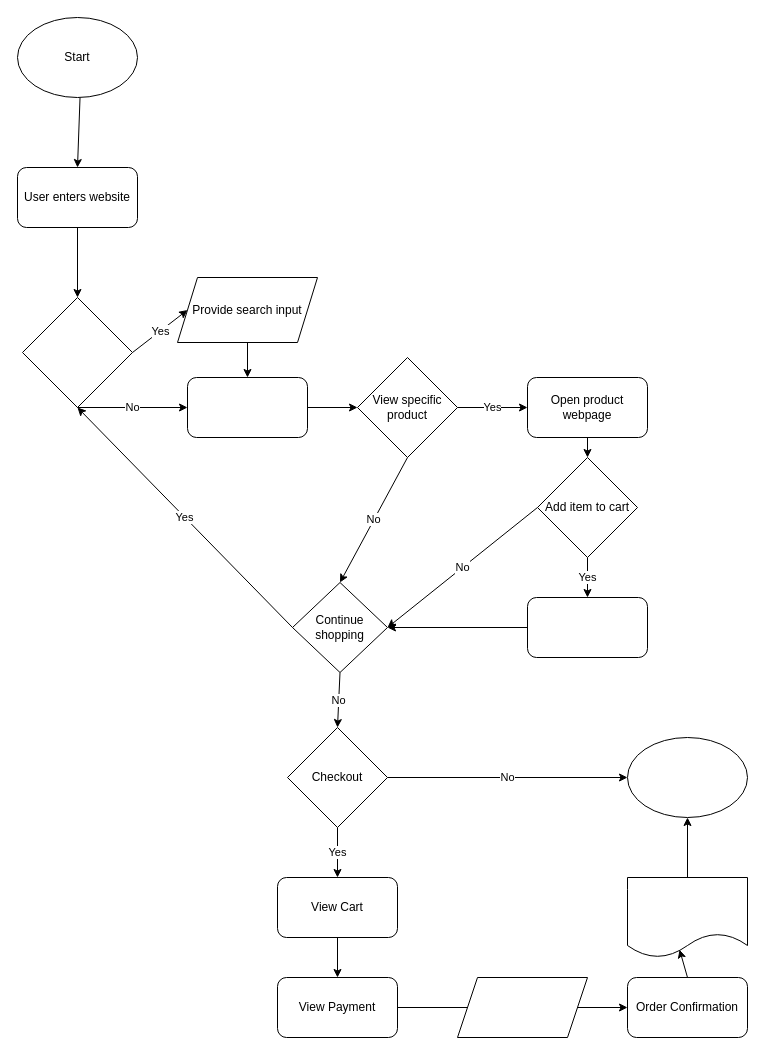
Some shapes in this 765 by 1055 pixel diagram are drawn without their labels. Each missing label, with the centre of its shape:
Added to cart confirmation: point (587, 627)
Email: point (687, 917)
End: point (687, 777)
Input Payment Info: point (522, 1007)
Look over products: point (247, 407)
Searching for product: point (77, 352)
